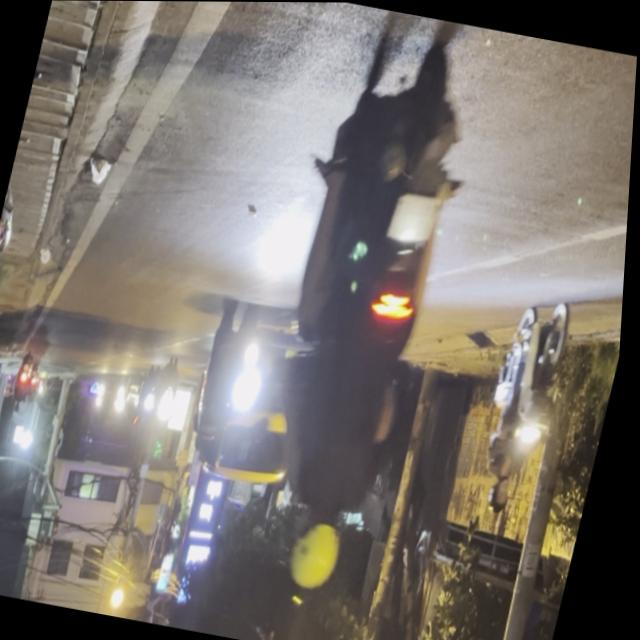helmet: (290, 509, 355, 597), (492, 475, 519, 517)
licenseplate: (222, 2, 505, 608), (470, 292, 585, 523)
nohelmet: (390, 194, 444, 248)
